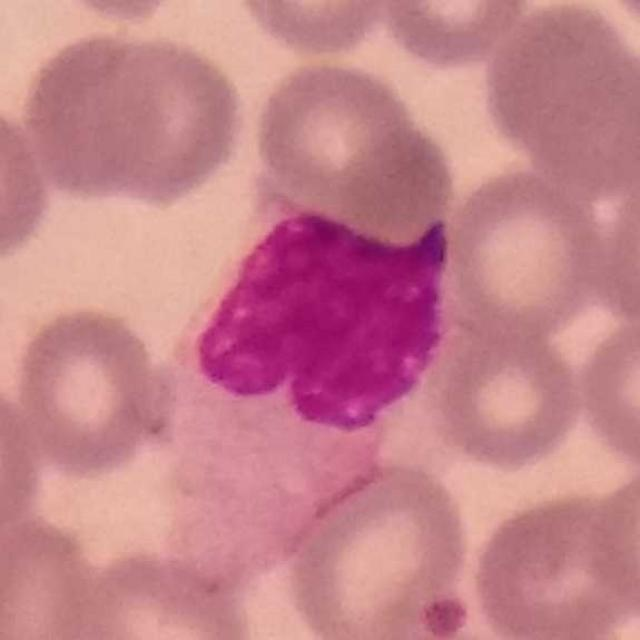Monocyte: (148, 197, 458, 597)
RBC: (17, 24, 242, 206), (246, 54, 453, 232), (291, 472, 477, 640), (476, 0, 640, 187), (7, 299, 176, 480), (439, 164, 606, 340), (465, 486, 640, 640), (426, 316, 586, 473), (60, 548, 258, 640), (0, 513, 120, 640), (376, 0, 539, 70), (573, 310, 640, 470), (229, 0, 404, 61), (0, 96, 56, 269), (581, 461, 640, 620), (0, 376, 46, 548), (593, 160, 640, 325), (42, 0, 196, 28), (591, 0, 640, 55)
